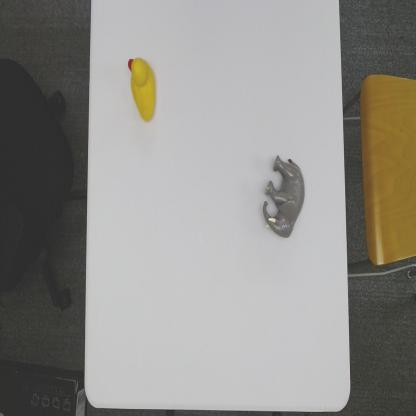Duck: (127, 54, 157, 125)
Elephant: (262, 153, 306, 240)
